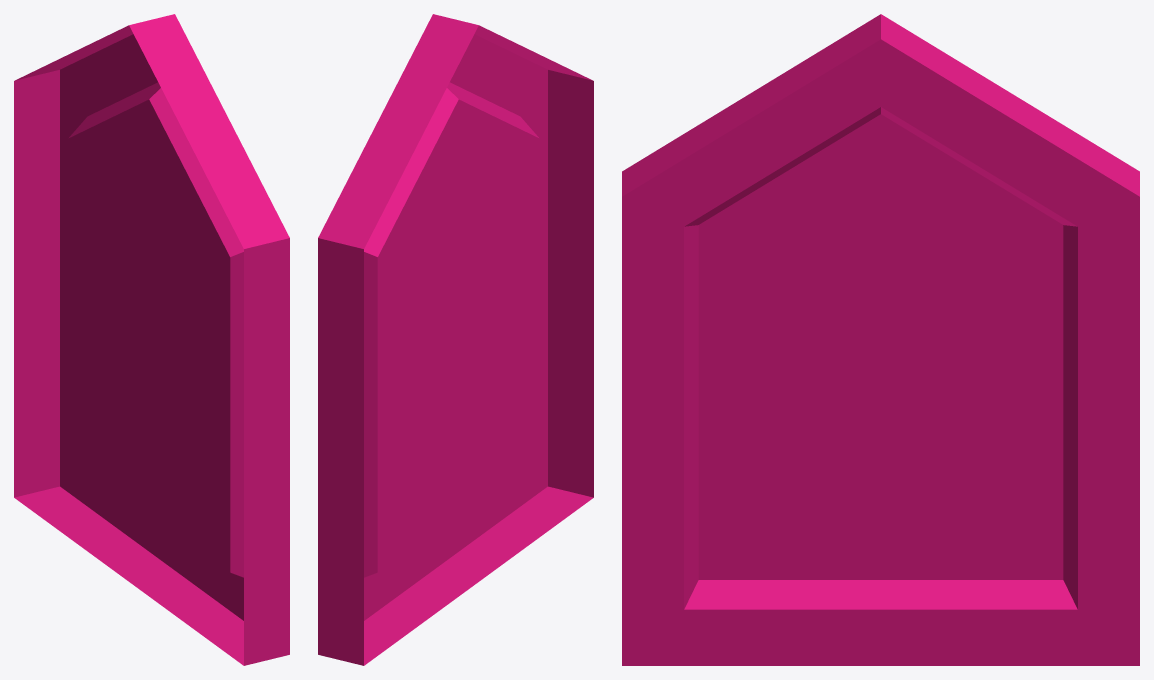
File: ventana.fbx
The picture shows the model from 3 angles, left to right: view 1: azimuth 30°, elevation 25°; view 2: azimuth 150°, elevation 25°; view 3: azimuth 270°, elevation 25°; orthographic projection. The views are drawn at different scales.
Visible parts, largest first — view 1: ventana; view 2: ventana; view 3: ventana.
Part boxes in pixels (x1=…): ventana: x1=14, y1=14, x2=289, y2=665; ventana: x1=318, y1=14, x2=593, y2=665; ventana: x1=622, y1=14, x2=1139, y2=665.
Bounding box in the file's own units: 23.09 × 267 × 200.
